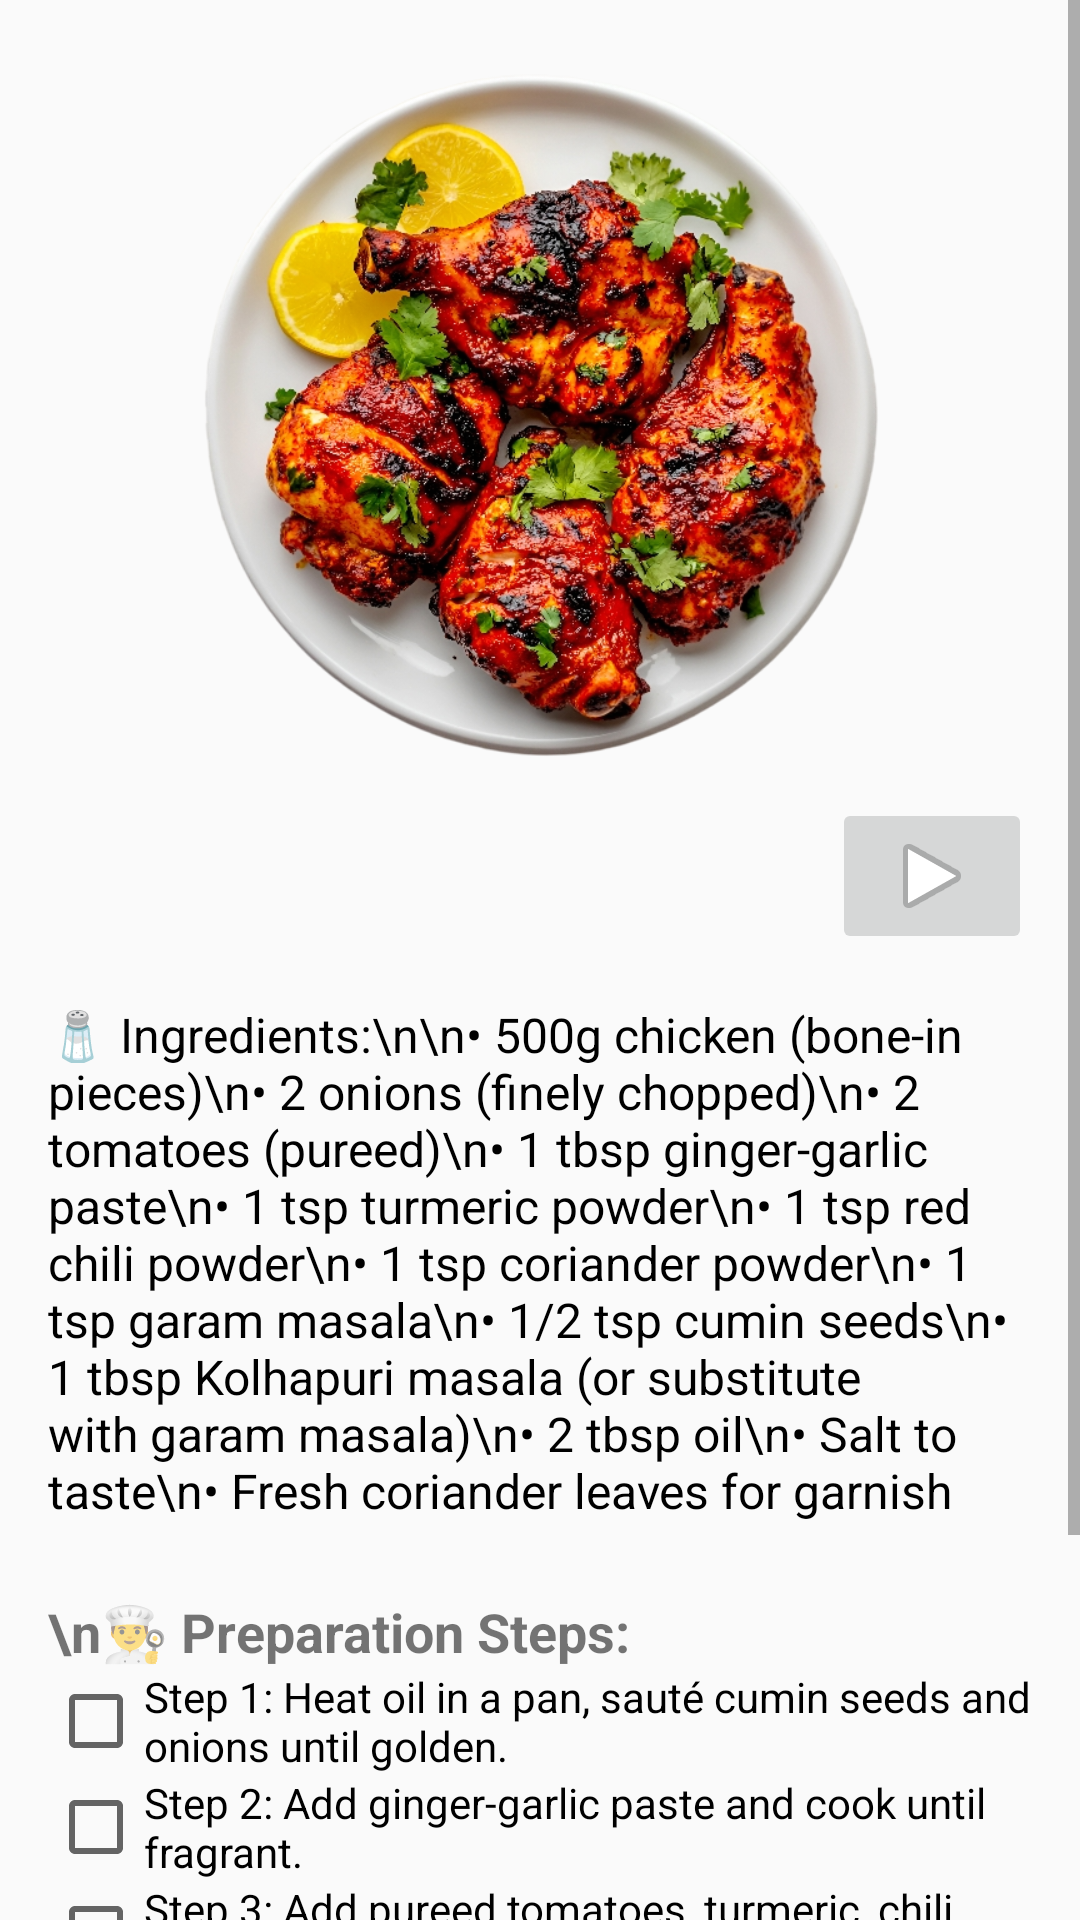

Named icons in this screenshot (1080 × 1920) and their centers, (x,y):
play: (932,876)
